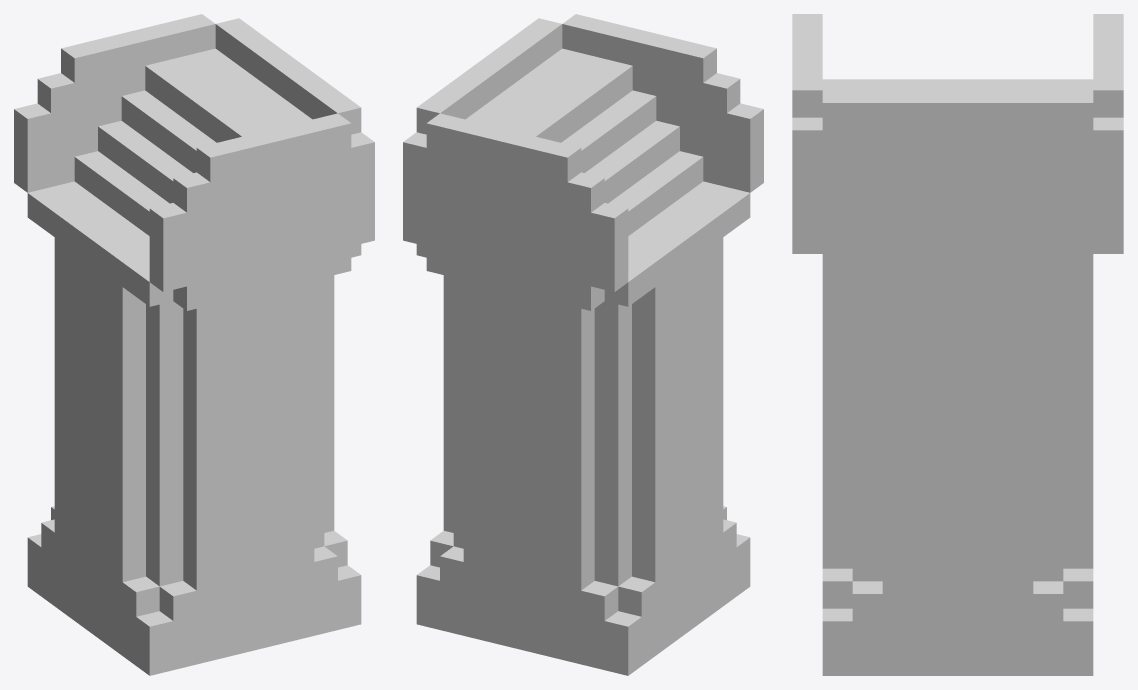
File: Uprav_cantre-0.obj
3 views of the same model, side by side, from view 1: azimuth 30°, elevation 25°; view 2: azimuth 150°, elevation 25°; view 3: azimuth 270°, elevation 25° (orthographic). The views are drawn at different scales.
Bounding box in the file's own units: 0.9 × 2.1 × 1.1.
1 material, 1 textured.
